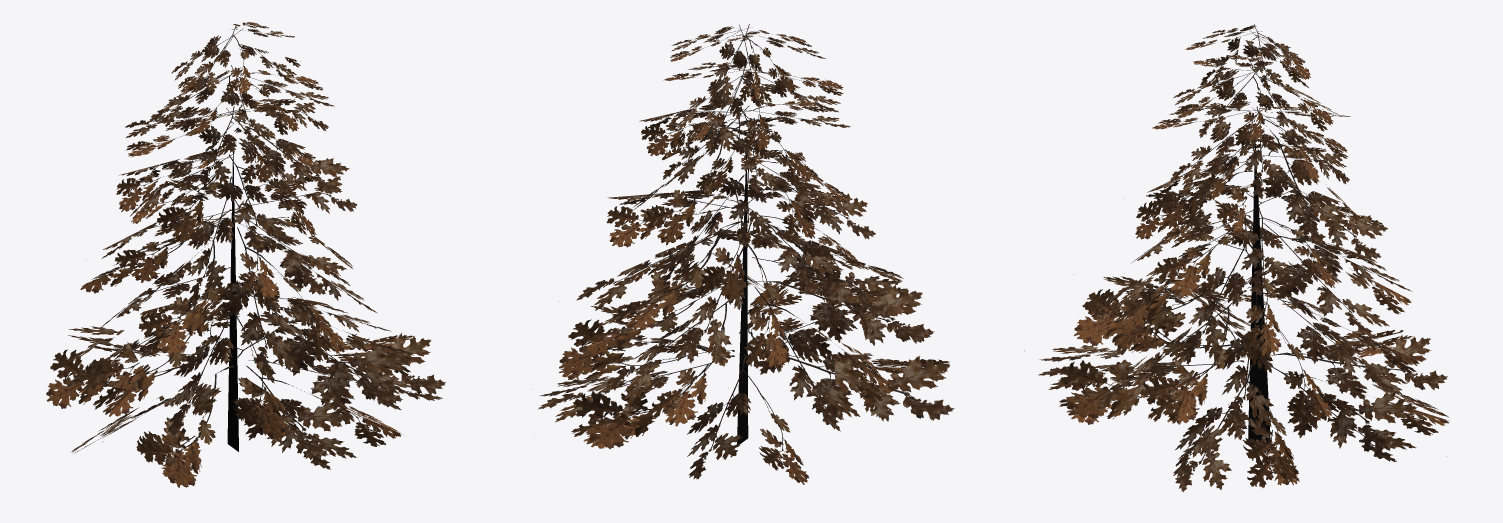
File: spruce1 lod4.FBX
3 views of the same model, side by side, from view 1: azimuth 30°, elevation 25°; view 2: azimuth 150°, elevation 25°; view 3: azimuth 270°, elevation 25° (orthographic).
Visible parts, largest first — view 1: spruce1_LOD4; view 2: spruce1_LOD4; view 3: spruce1_LOD4.
Part boxes in pixels (<box>): spruce1_LOD4: <box>46,22,445,487</box>; spruce1_LOD4: <box>538,24,954,484</box>; spruce1_LOD4: <box>1024,24,1449,492</box>.
Size of the model in its own units: 42229 by 40337 by 42009.
